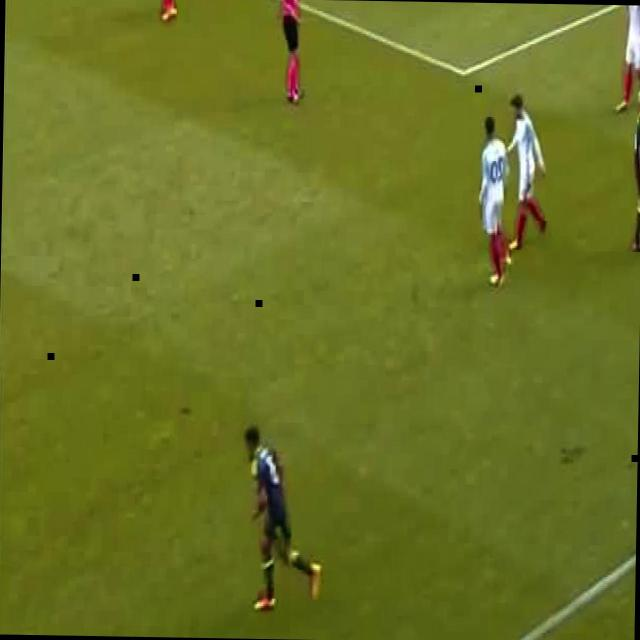player-white: (242, 424, 324, 616), (506, 93, 550, 251), (476, 117, 512, 289), (280, 0, 308, 106), (613, 5, 640, 114), (630, 85, 640, 258), (142, 0, 192, 23)
